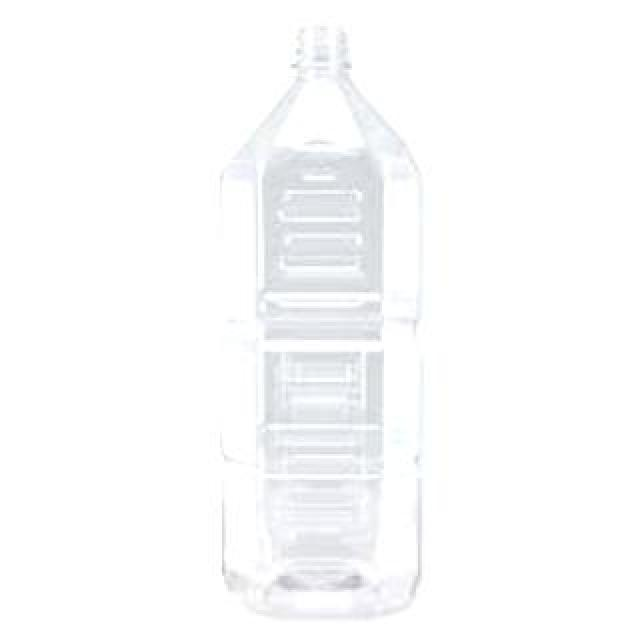Pet_Bottle: (211, 16, 437, 622)
